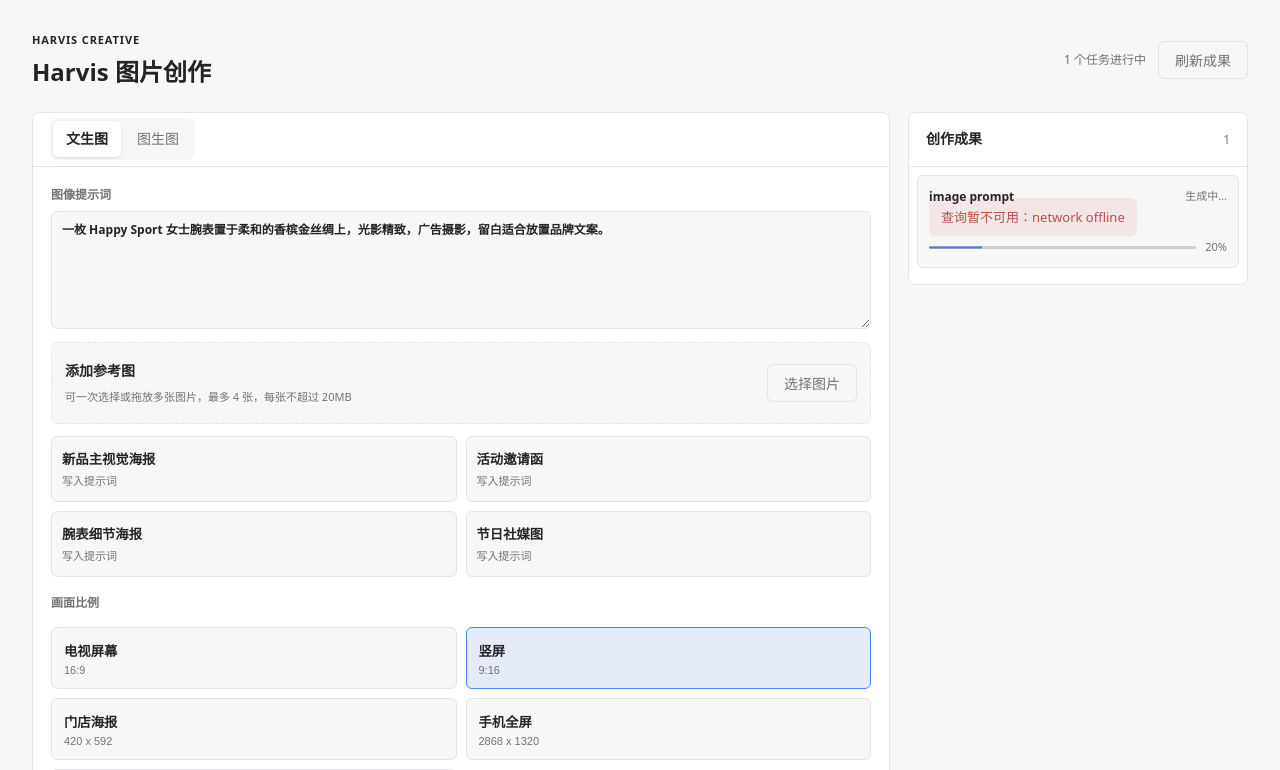
Test: CreativePage personal-key results › keeps query failure separate from generation failure and retries
Expected: the text "查询暂不可用：network offline" is shown, [929,198,1137,236]
Click the button "刷新成果" at [1203, 60], box [1158,41,1248,79]
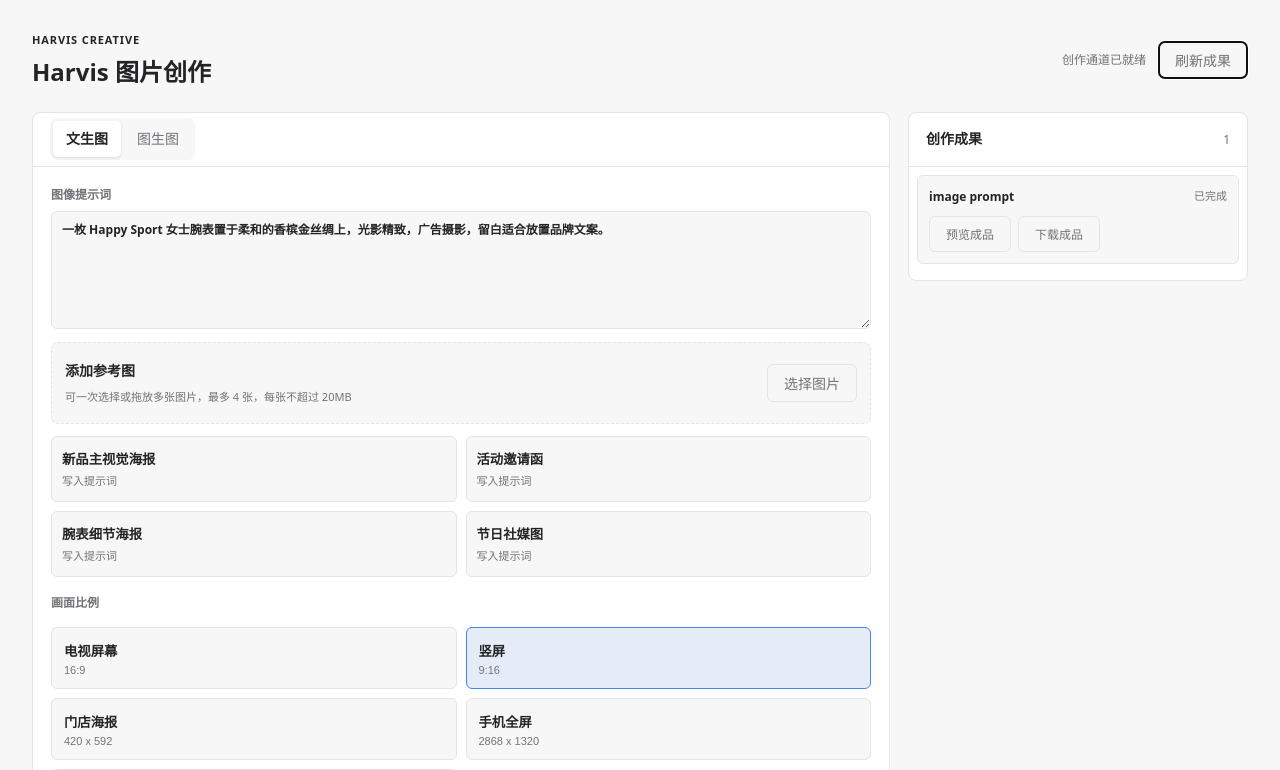
Now the text "已完成" is shown, box [1194,187,1227,204]
Now the text "查询暂不可用" is gone
